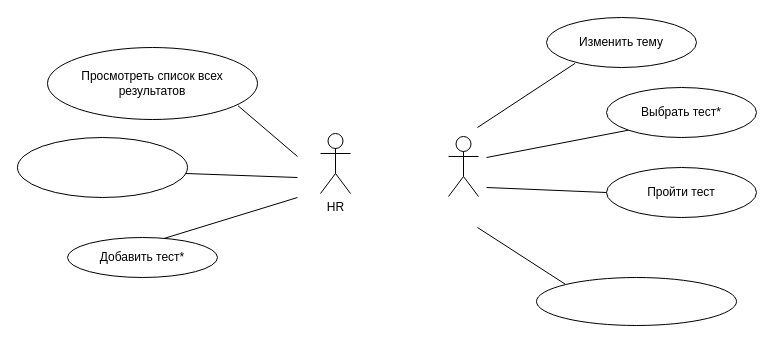
Some shapes in this 774 by 343 pixel diagram are drawn without their labels. Here are the shapes that lost their labels. From the top down, the box of each, then its label:
(16, 136, 188, 198): Посмотреть подробный анализ результата
(448, 136, 478, 196): Кандидат
(536, 276, 736, 326): Просмотреть результат теста
